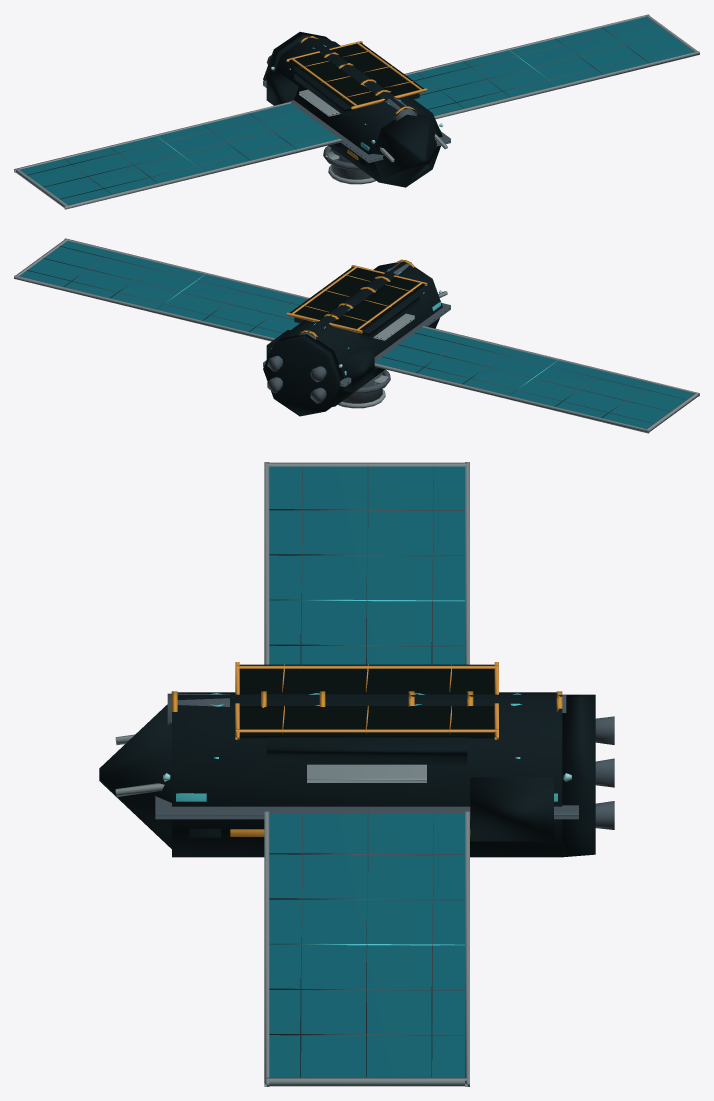
File: sol82_platform_distance.glb
3 renders of one model, top to bottom at view 1: azimuth 30°, elevation 25°; view 2: azimuth 150°, elevation 25°; view 3: azimuth 270°, elevation 25°, orthographic. The views are drawn at different scales.
Visible parts, largest first — view 1: SOL82_DISTANCE_GEOMETRY; view 2: SOL82_DISTANCE_GEOMETRY; view 3: SOL82_DISTANCE_GEOMETRY.
Boxes of the visible parts, x1,y1,x2,y2 form: SOL82_DISTANCE_GEOMETRY: (14,14,699,209); SOL82_DISTANCE_GEOMETRY: (14,238,699,433); SOL82_DISTANCE_GEOMETRY: (99,462,614,1086).
Bounding box in the file's own units: 52.55 × 8.12 × 18.48.
